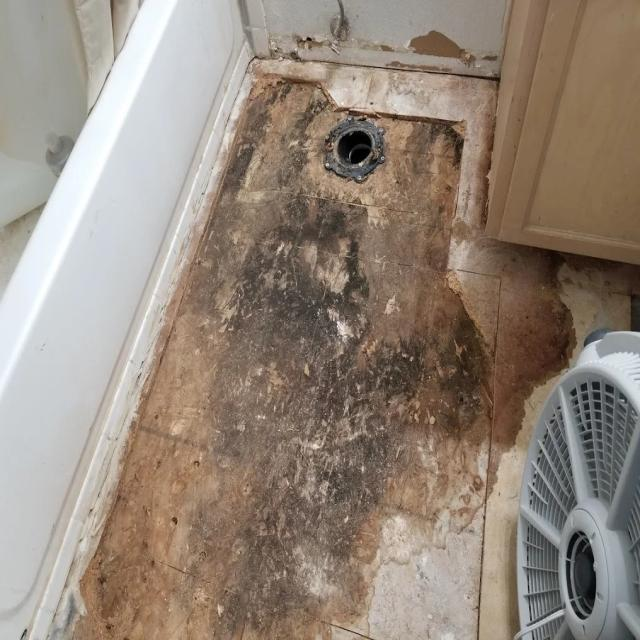damage: (513, 328, 638, 638)
dirty_floor: (60, 58, 635, 637)
